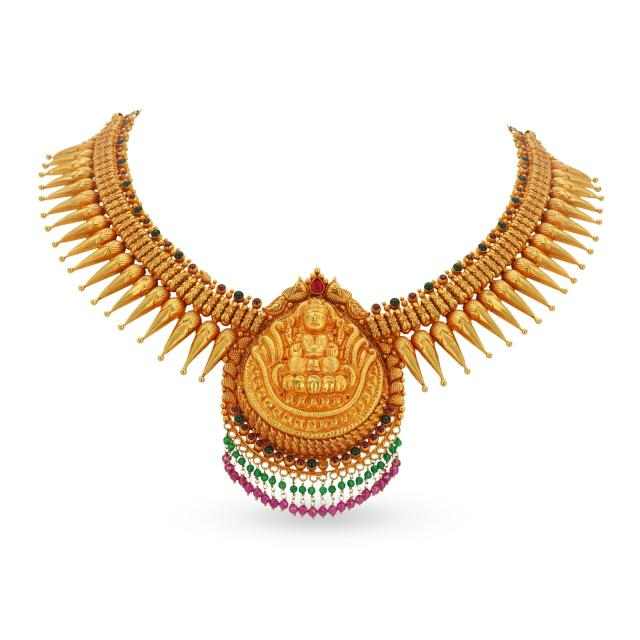missing gem: (318, 459, 329, 468), (202, 273, 210, 281)
